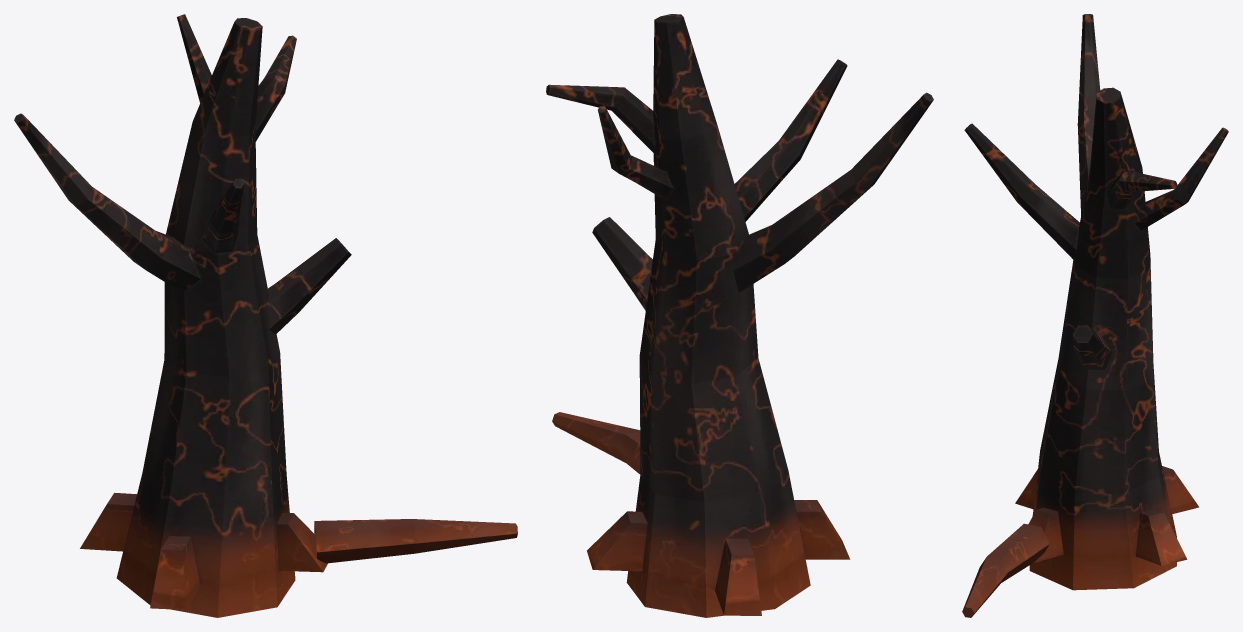
File: tree_burnt.glb
The picture shows the model from 3 angles, left to right: view 1: azimuth 30°, elevation 25°; view 2: azimuth 150°, elevation 25°; view 3: azimuth 270°, elevation 25°; orthographic projection. The views are drawn at different scales.
Visible parts, largest first — view 1: Static_Mesh; view 2: Static_Mesh; view 3: Static_Mesh.
Boxes of the visible parts, bbox=[...] form: Static_Mesh: bbox=[14, 14, 517, 617]; Static_Mesh: bbox=[546, 14, 933, 617]; Static_Mesh: bbox=[962, 14, 1228, 617].
Bounding box in the file's own units: 3.44 × 4.17 × 2.07.
1 material, 1 textured.
